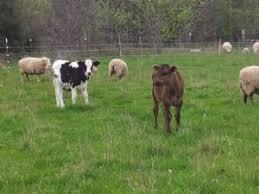cow: (152, 64, 184, 132), (51, 60, 98, 105), (19, 57, 50, 81), (241, 65, 259, 102), (108, 59, 130, 79), (222, 42, 234, 53), (253, 41, 259, 55), (240, 48, 251, 54)
